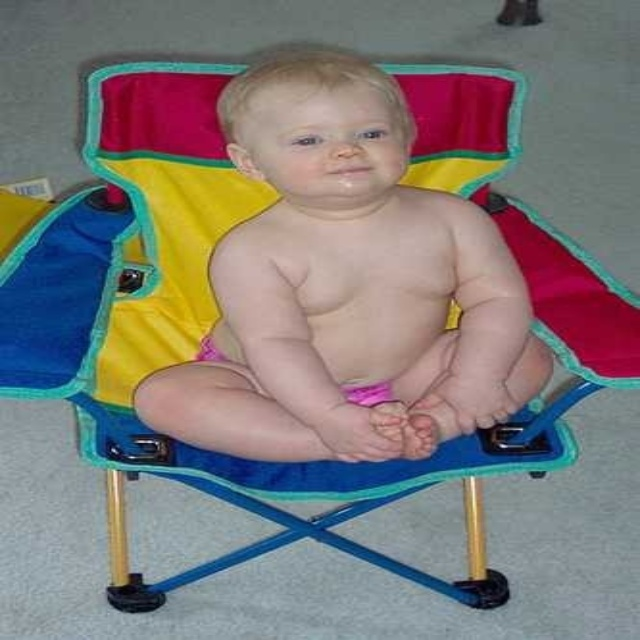obstacle: (135, 52, 550, 461)
